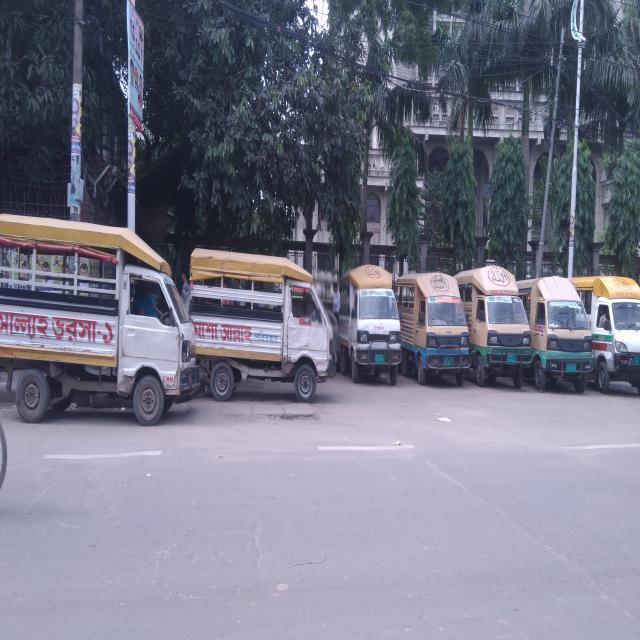Leguna: (1, 185, 205, 452), (173, 237, 343, 411), (441, 252, 547, 410), (493, 252, 606, 400), (395, 262, 486, 410), (333, 252, 414, 394), (564, 258, 640, 402)
